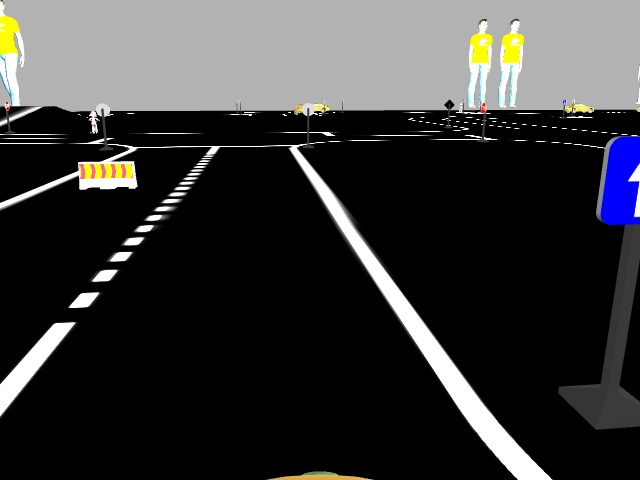ClosedRoadStand: (78, 162, 137, 189)
OneWay: (607, 139, 639, 220)
